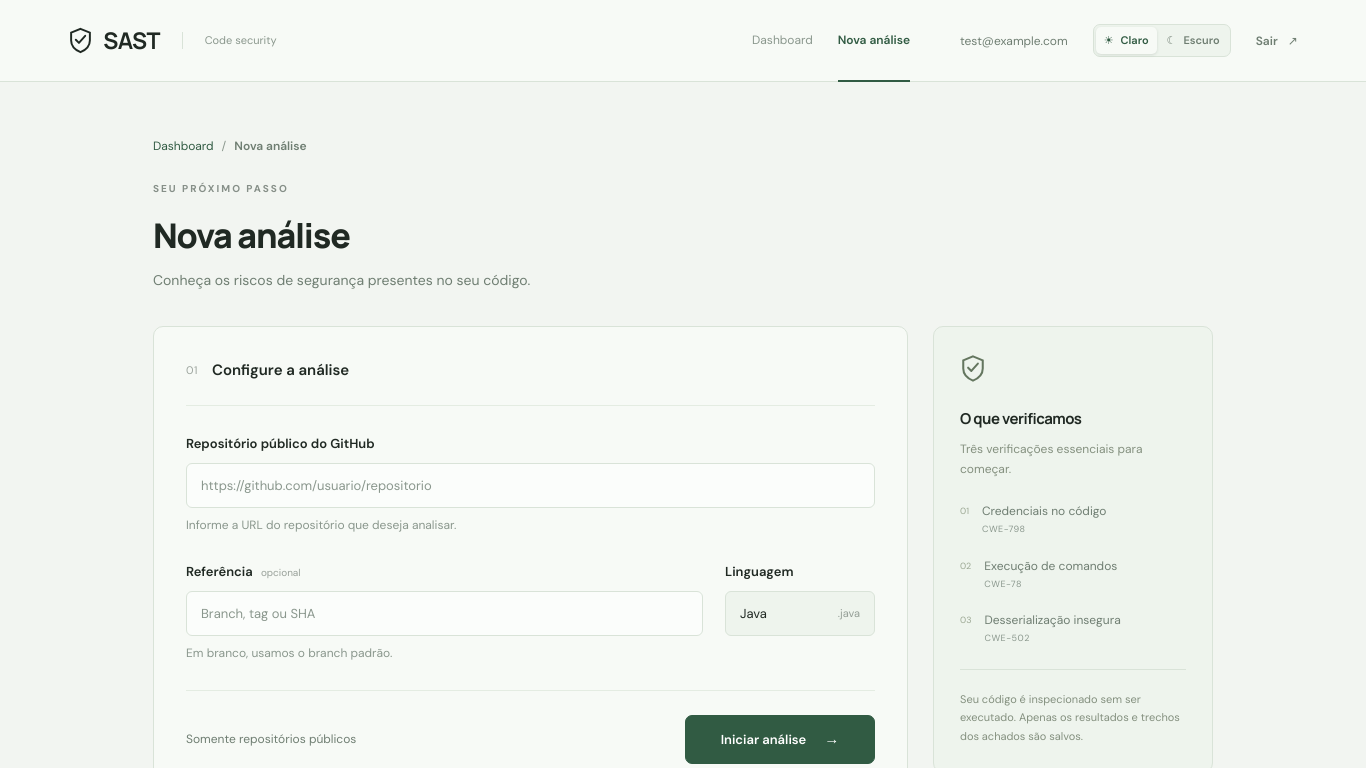
fluxo autenticado da análise › BDD-E-07: remove resultados e retorna ao login quando a sessão expira
Type "https://github.com/acme/demo" into the field labelled "Repositório público do GitHub" at (530, 485), box [186,462,875,508]
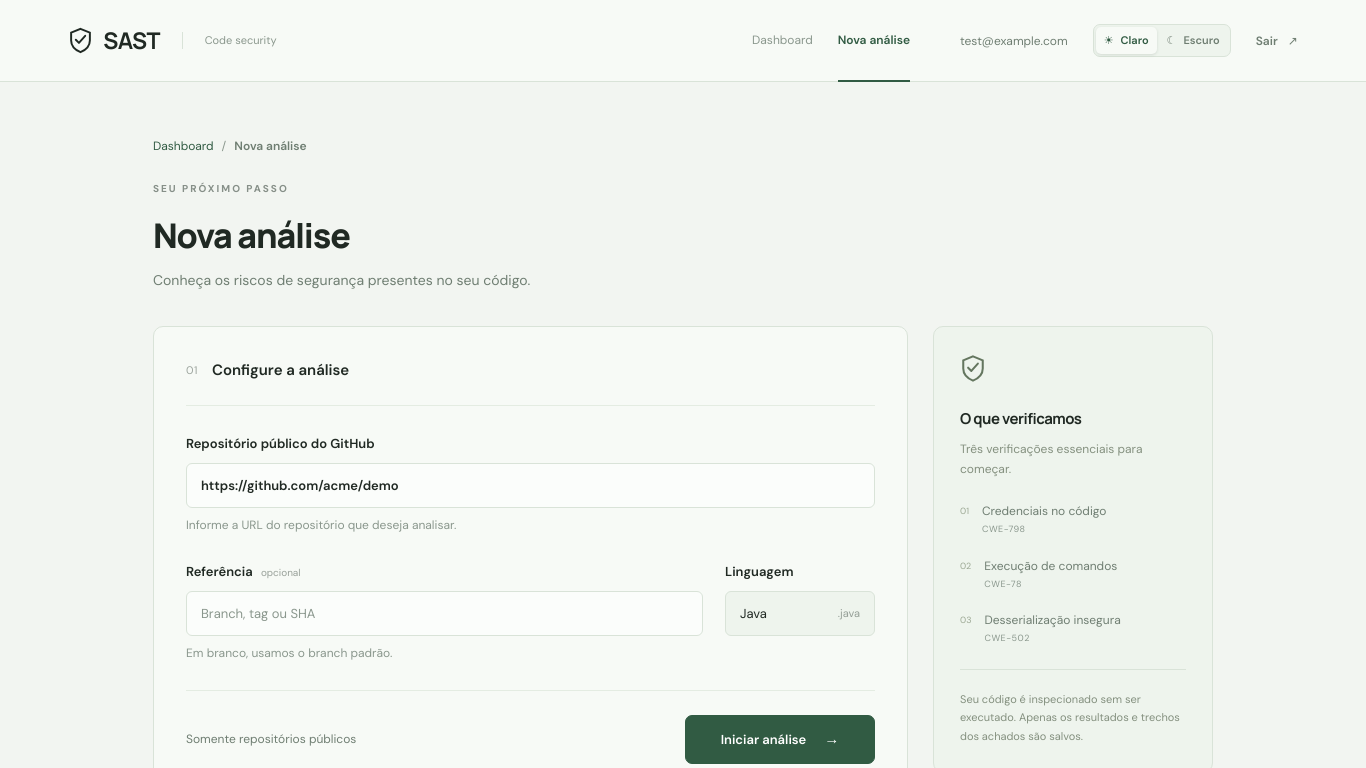
Click the button "Iniciar análise →" at (780, 739), box [685,715,875,764]
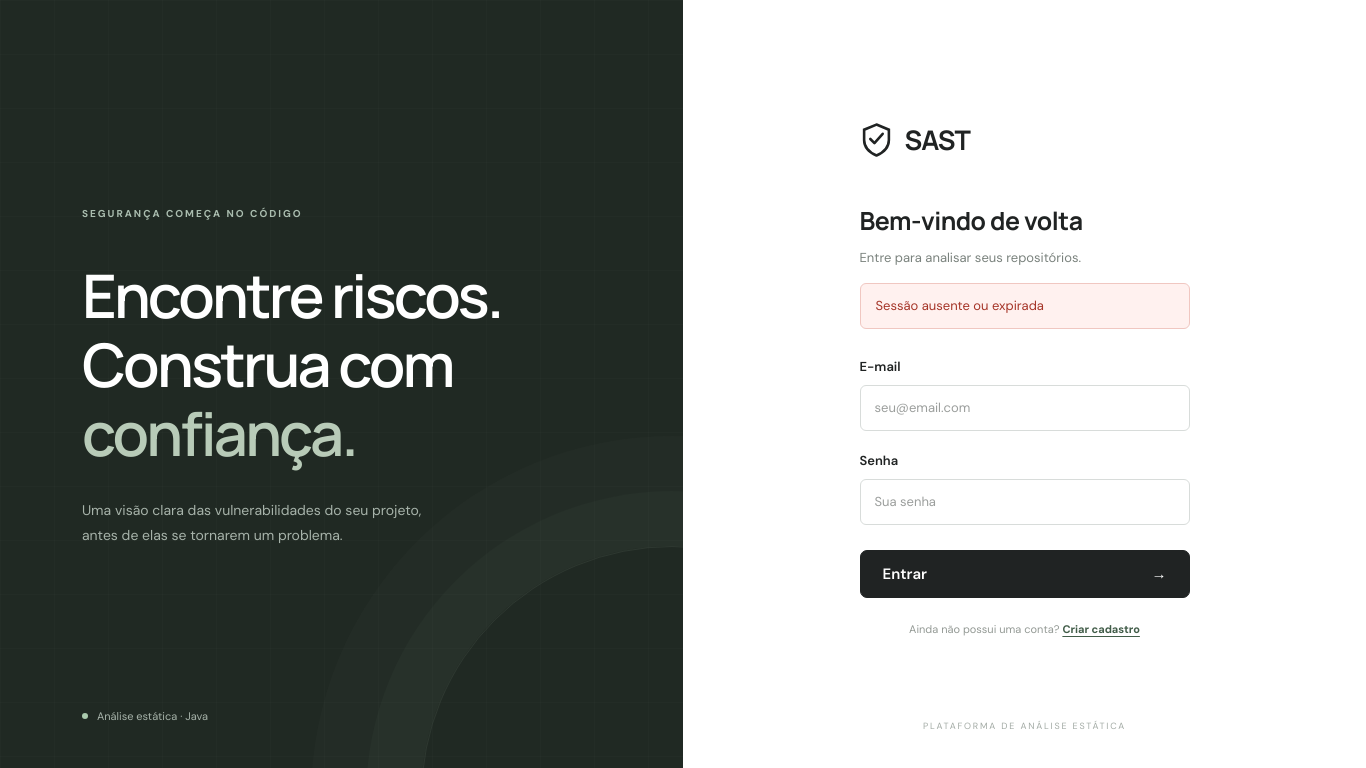
Expected: the password field labelled "Senha" is shown, [860,479,1190,524]
